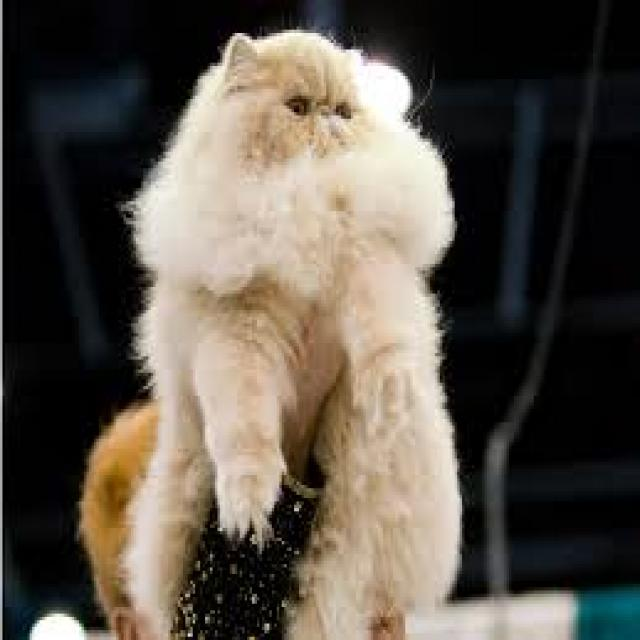Cat: (126, 22, 462, 368)
